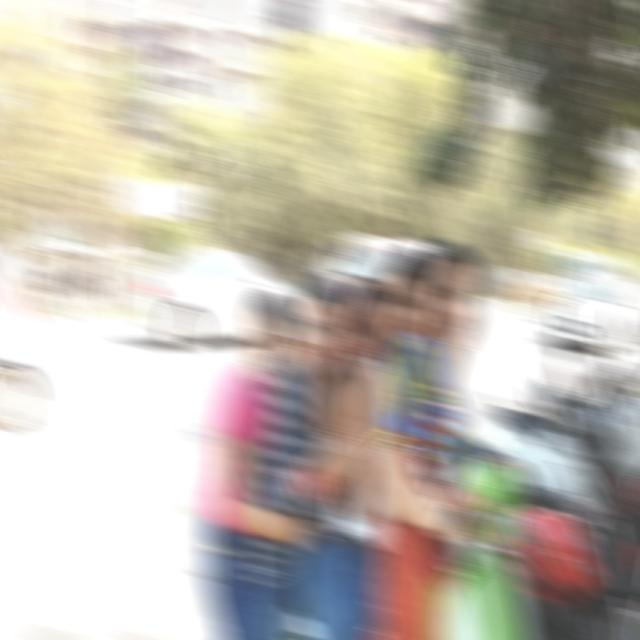Without Helmet: (418, 225, 482, 352)
